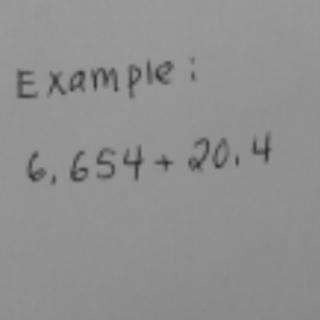.: (231, 153, 243, 165), (49, 172, 58, 184)
0: (213, 137, 230, 168)
2: (190, 137, 209, 172)
4: (124, 144, 144, 178), (253, 130, 271, 164)
5: (97, 148, 118, 180)
6: (26, 151, 48, 183), (70, 150, 91, 182)
